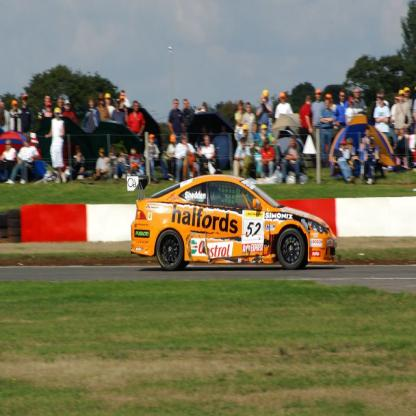Car: (127, 175, 338, 273)
